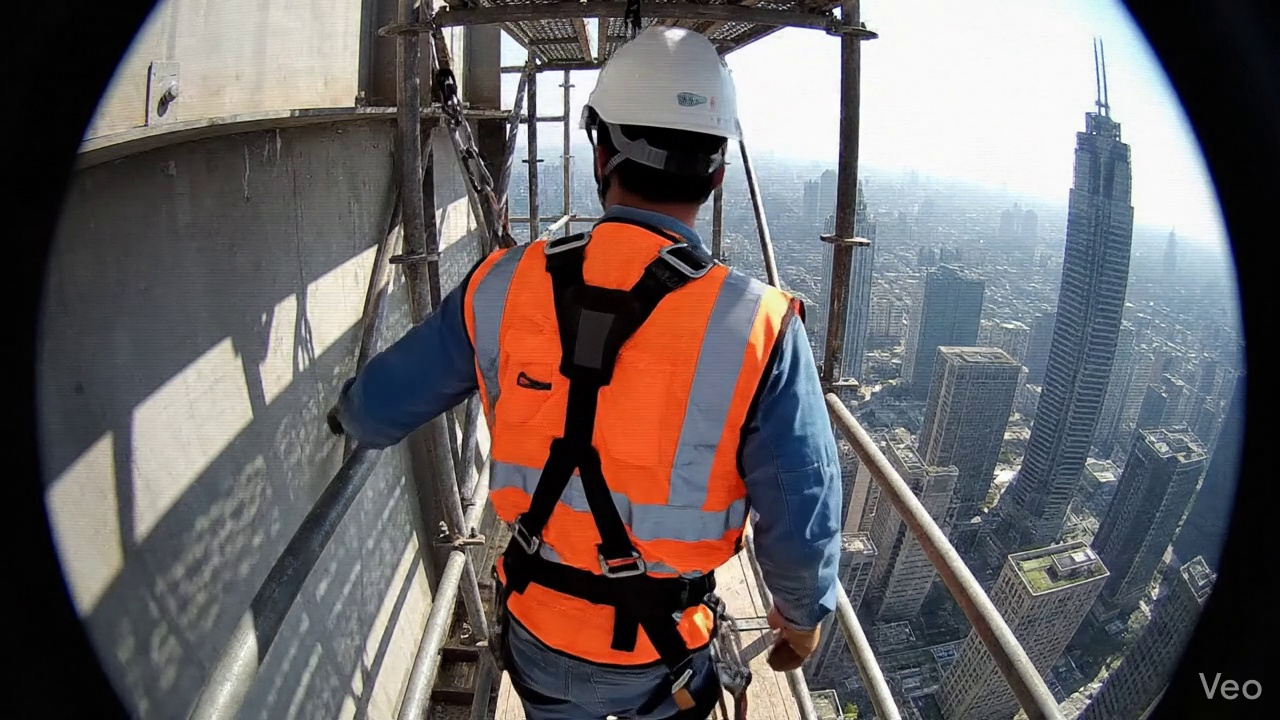person: (328, 27, 841, 719), (722, 708, 724, 715)
